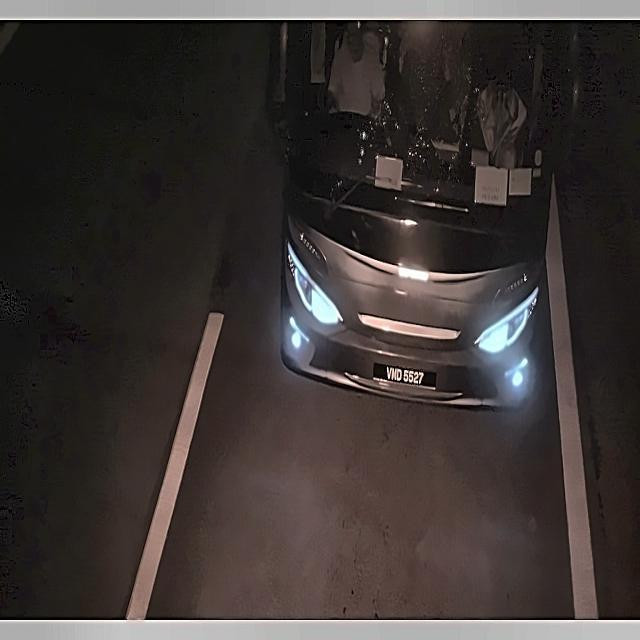car: (364, 349, 436, 398)
